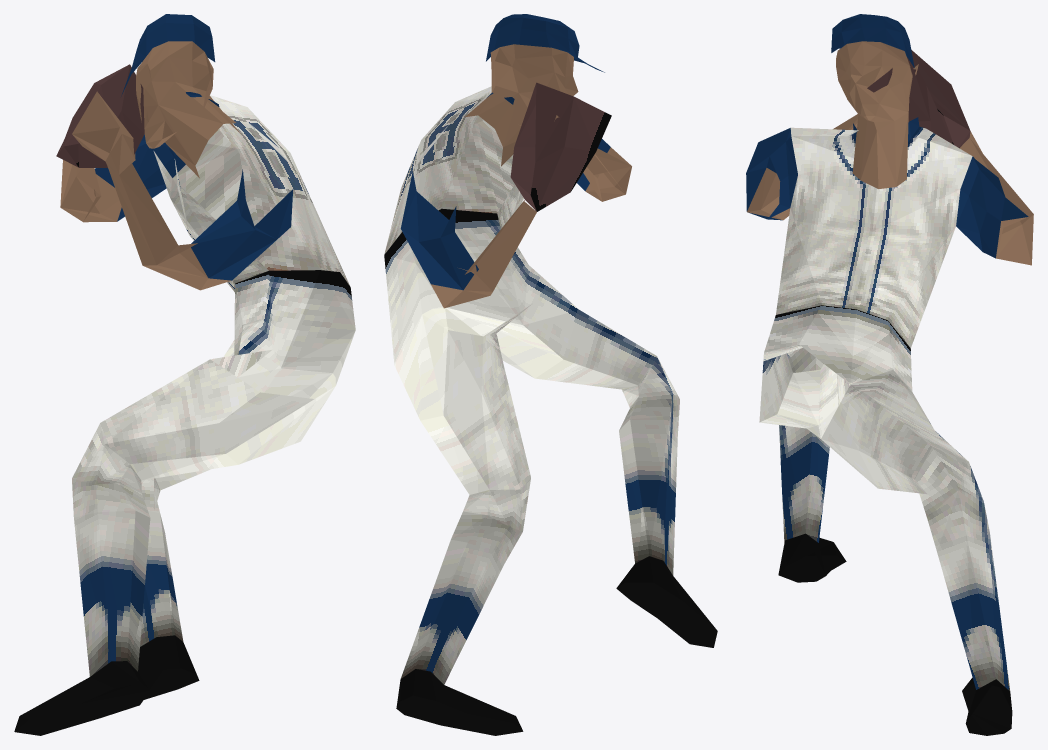
The model's file is ps2_save-icons_highheatmajorleaguebaseball2002.glb.
The picture shows the model from 3 angles, left to right: view 1: azimuth 30°, elevation 25°; view 2: azimuth 150°, elevation 25°; view 3: azimuth 270°, elevation 25°; orthographic projection. The views are drawn at different scales.
Visible parts, largest first — view 1: HH2kIcon.ico; view 2: HH2kIcon.ico; view 3: HH2kIcon.ico.
Part boxes in pixels (x1,y1,x2,y2): HH2kIcon.ico: (14,14,355,735); HH2kIcon.ico: (384,14,717,735); HH2kIcon.ico: (746,14,1033,735).
Size of the model in its own units: 2.24 by 4.65 by 1.77.
Materials: 1 (1 with a texture image).
